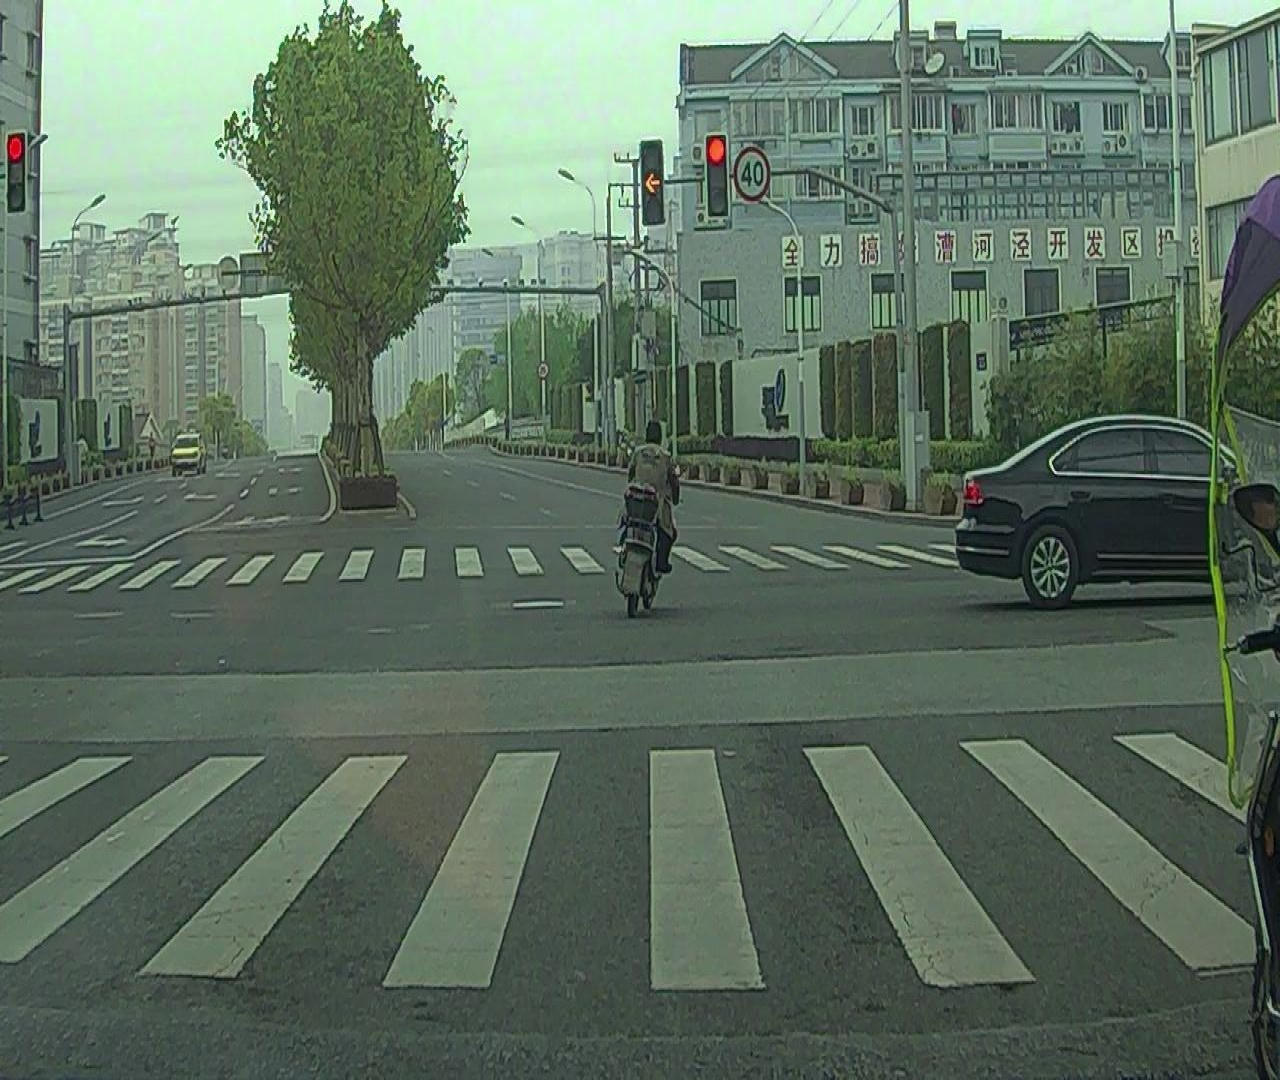red: (706, 133, 729, 216), (7, 133, 26, 214)
yellow: (642, 142, 665, 223)
